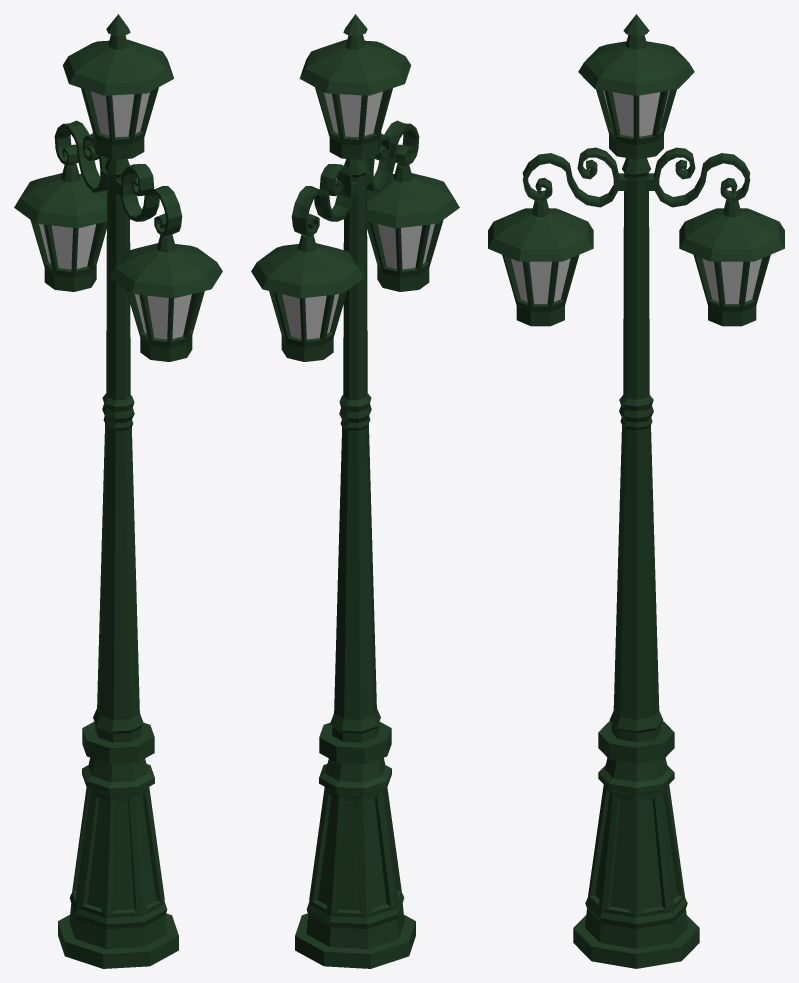
Rendered from q-street-streetlight-triple.glb.
3 views of the same model, side by side, from view 1: azimuth 30°, elevation 25°; view 2: azimuth 150°, elevation 25°; view 3: azimuth 270°, elevation 25° (orthographic).
Visible parts, largest first — view 1: Green.001, Glass.001; view 2: Green.001, Glass.001; view 3: Green.001, Glass.001.
Boxes of the visible parts, box(x1,y1,x2,y2) form: Green.001: box(14, 14, 222, 968); Glass.001: box(39, 91, 191, 339); Green.001: box(251, 14, 459, 968); Glass.001: box(282, 91, 434, 339); Green.001: box(488, 14, 784, 968); Glass.001: box(511, 90, 761, 303).
Size of the model in its own units: 0.1317 by 1.09 by 0.3157.
